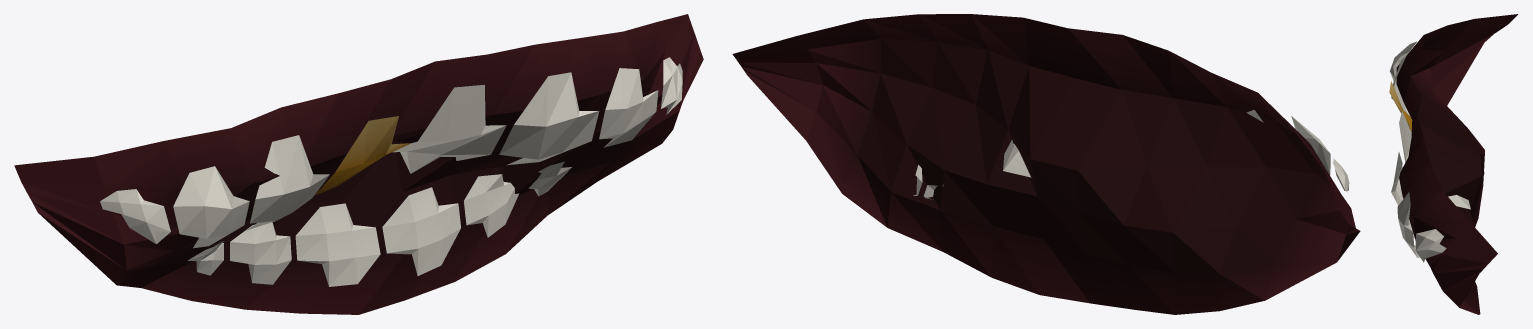
The model's file is tooth_gold_male_hi.glb.
The picture shows the model from 3 angles, left to right: view 1: azimuth 30°, elevation 25°; view 2: azimuth 150°, elevation 25°; view 3: azimuth 270°, elevation 25°; orthographic projection. The views are drawn at different scales.
Parts seen in each view (by area): view 1: tooth_gold_male_hi; view 2: tooth_gold_male_hi; view 3: tooth_gold_male_hi.
Boxes of the visible parts, <box> form: tooth_gold_male_hi: <box>14,14,703,314</box>; tooth_gold_male_hi: <box>732,14,1360,314</box>; tooth_gold_male_hi: <box>1389,14,1518,314</box>.
Size of the model in its own units: 0.1247 by 0.0471 by 0.0284.
